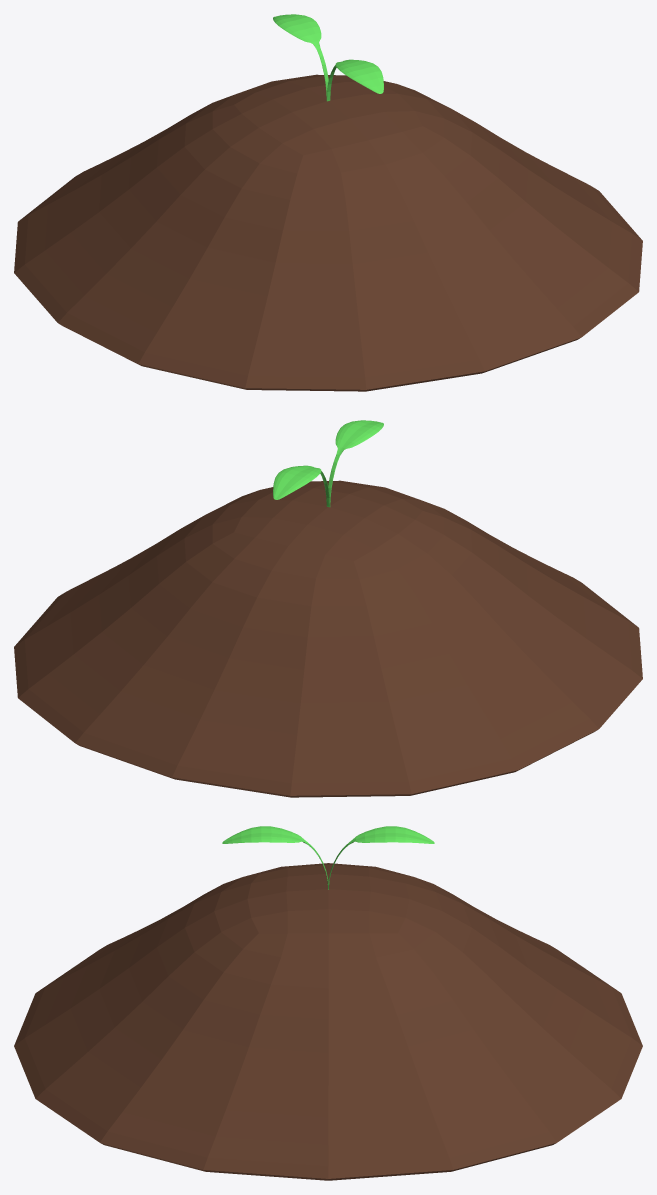
Rendered from SoilWithSprout.fbx.
3 renders of one model, top to bottom at view 1: azimuth 30°, elevation 25°; view 2: azimuth 150°, elevation 25°; view 3: azimuth 270°, elevation 25°, orthographic.
Parts seen in each view (by area): view 1: Dirt, Plane.001; view 2: Dirt, Plane.001; view 3: Dirt, Plane.001.
Part boxes in pixels (box(x1,y1,x2,y2)): Dirt: box(14, 74, 642, 391); Plane.001: box(273, 14, 383, 101); Dirt: box(14, 480, 642, 797); Plane.001: box(273, 420, 383, 507); Dirt: box(14, 863, 642, 1180); Plane.001: box(222, 826, 434, 889).
Size of the model in its own units: 189 by 72.75 by 189.
